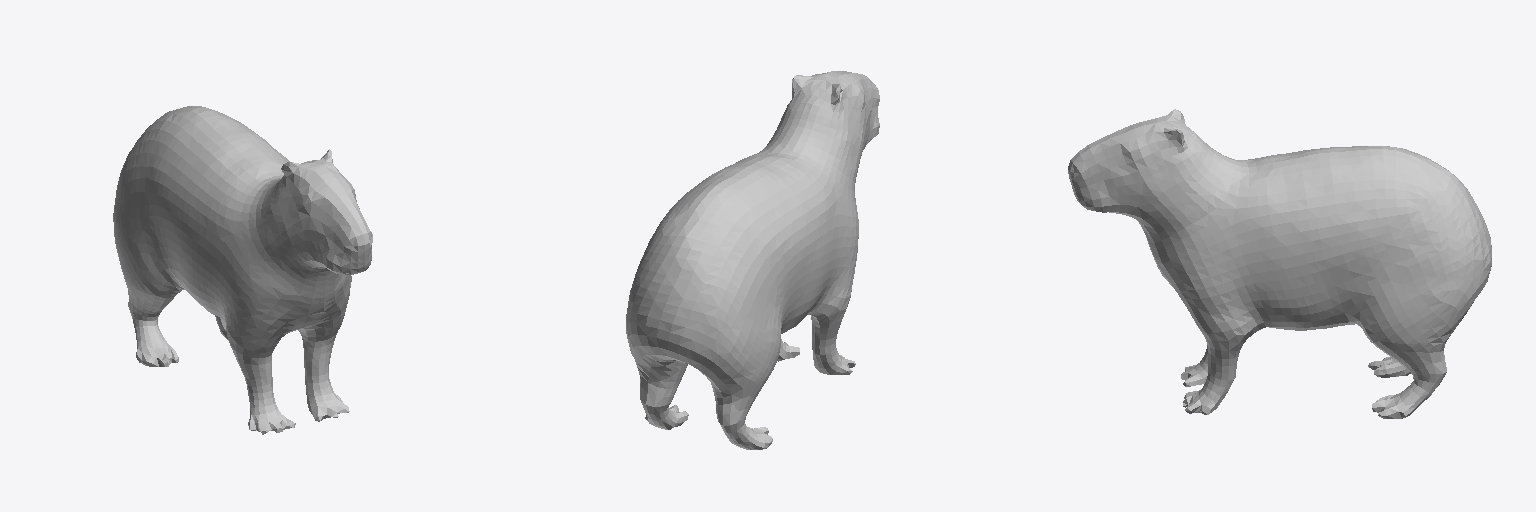
The model's file is rat.obj.
3 views of the same model, side by side, from view 1: azimuth 30°, elevation 25°; view 2: azimuth 150°, elevation 25°; view 3: azimuth 270°, elevation 25° (orthographic).
Visible parts, largest first — view 1: capybara_Material.003; view 2: capybara_Material.003; view 3: capybara_Material.003.
Part boxes in pixels (x1,y1,x2,y2): capybara_Material.003: (113,106,372,434); capybara_Material.003: (626,71,879,449); capybara_Material.003: (1068,109,1491,418).
Bounding box in the file's own units: 1.39 × 2.84 × 3.97.